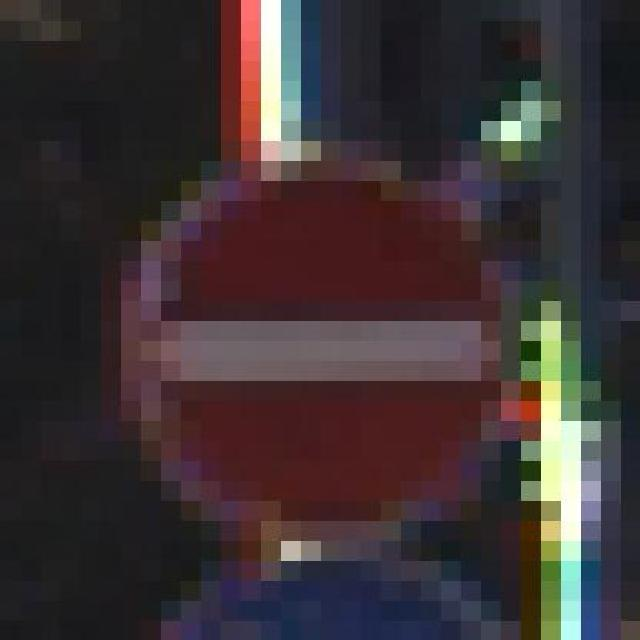B2: (123, 164, 505, 530)
